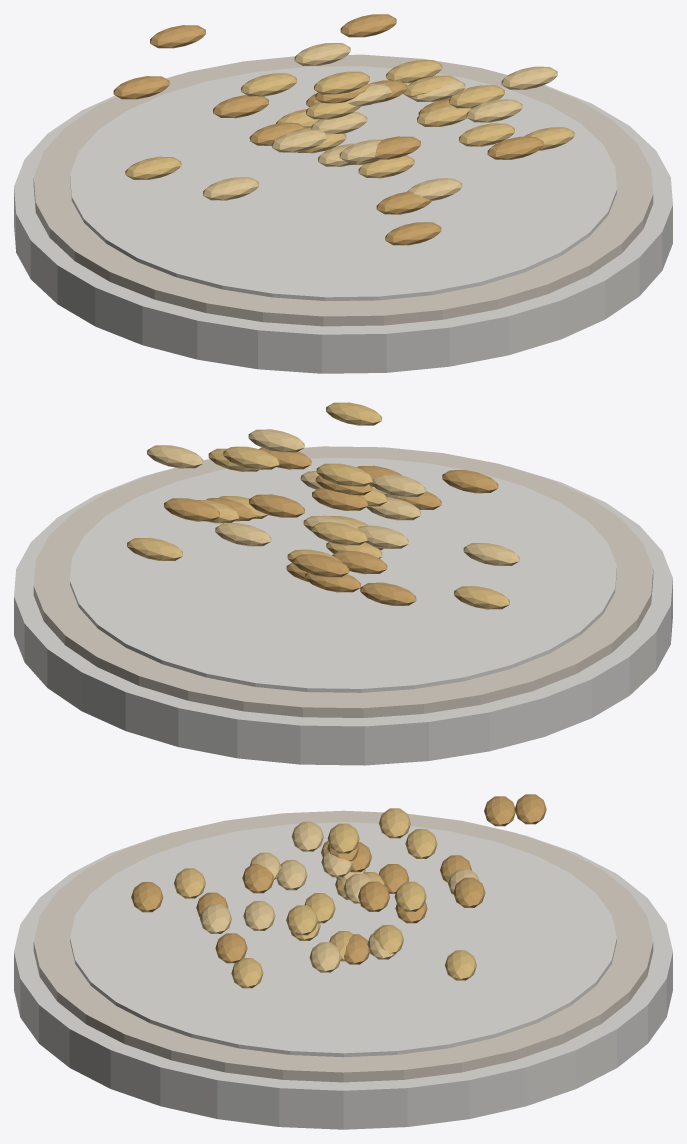
The model's file is hanh_phi.glb.
3 views of the same model, one above another, from view 1: azimuth 30°, elevation 25°; view 2: azimuth 150°, elevation 25°; view 3: azimuth 270°, elevation 25° (orthographic).
Visible parts, largest first — view 1: obj_0002, obj_0000, obj_0001, obj_0017, obj_0011, obj_0023, obj_0038, obj_0030, obj_0041, obj_0006, obj_0020, obj_0013 (+21 smaller); view 2: obj_0002, obj_0000, obj_0001, obj_0030, obj_0011, obj_0020, obj_0014, obj_0023, obj_0025, obj_0039, obj_0034, obj_0041 (+13 smaller); view 3: obj_0002, obj_0000, obj_0001, obj_0023, obj_0006, obj_0015, obj_0017, obj_0025, obj_0034, obj_0039, obj_0037, obj_0041 (+17 smaller).
Boxes of the visible parts, x1,y1,x2,y2 form: obj_0002: (70,66,616,301); obj_0000: (14,74,672,373); obj_0001: (33,54,653,326); obj_0017: (340,14,396,37); obj_0011: (466,99,522,122); obj_0023: (385,222,441,245); obj_0038: (113,76,169,99); obj_0030: (150,25,205,48); obj_0041: (459,123,514,146); obj_0006: (203,177,258,200); obj_0020: (241,73,296,96); obj_0013: (487,136,543,159); obj_0002: (70,458,616,692); obj_0000: (14,466,672,765); obj_0001: (33,446,653,717); obj_0030: (293,554,349,577); obj_0011: (248,429,304,452); obj_0020: (311,522,367,545); obj_0014: (215,523,271,546); obj_0023: (442,470,498,493); obj_0025: (147,445,203,468); obj_0039: (316,463,372,486); obj_0034: (223,446,279,469); obj_0041: (326,402,381,425); obj_0002: (70,822,616,1057); obj_0000: (14,834,672,1129); obj_0001: (33,810,653,1082); obj_0023: (131,882,163,912); obj_0006: (291,821,323,851); obj_0015: (445,950,476,980); obj_0017: (453,877,485,907); obj_0025: (309,942,341,972); obj_0034: (286,905,318,935); obj_0039: (327,823,359,853); obj_0037: (231,958,263,988); obj_0041: (174,868,205,898).
Size of the model in its own units: 1.84 by 0.4908 by 1.84.
